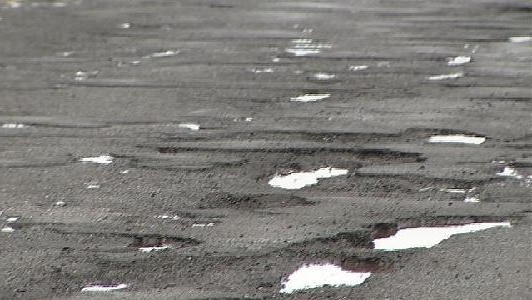pothole: (328, 210, 518, 252), (275, 253, 383, 297), (263, 161, 351, 190), (400, 125, 489, 147), (123, 230, 209, 251), (301, 127, 401, 144), (348, 148, 424, 169)
